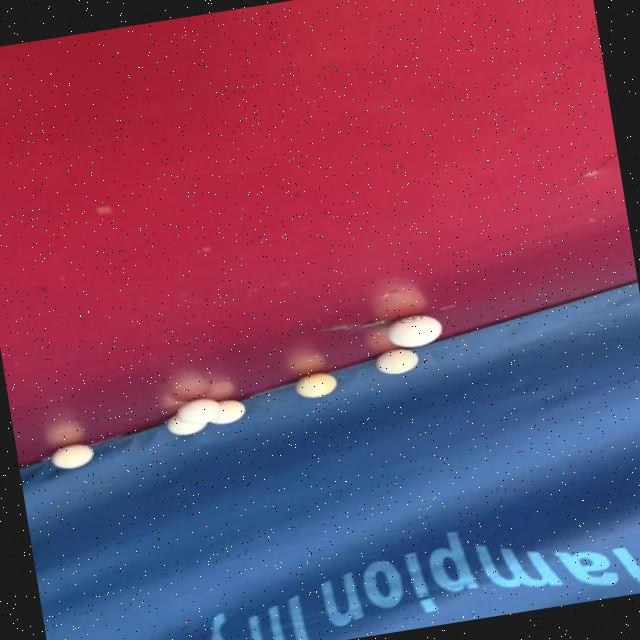ping-pong-ball: (380, 307, 452, 355), (364, 344, 424, 382), (290, 367, 348, 405), (42, 439, 102, 474)
